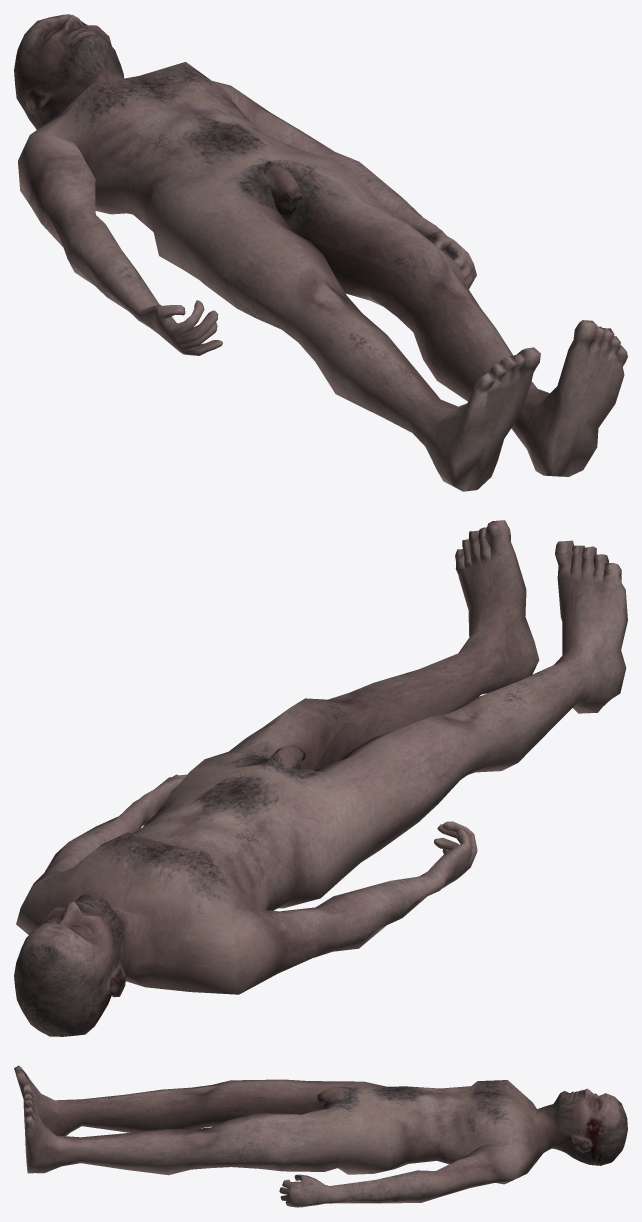
Rendered from antidote_corpse_drilled.dae.
3 views of the same model, one above another, from view 1: azimuth 30°, elevation 25°; view 2: azimuth 150°, elevation 25°; view 3: azimuth 270°, elevation 25° (orthographic). The views are drawn at different scales.
Visible parts, largest first — view 1: polySurface10; view 2: polySurface10; view 3: polySurface10.
Boxes of the visible parts, x1=… form: polySurface10: x1=14, y1=14, x2=627, y2=491; polySurface10: x1=14, y1=520, x2=627, y2=1036; polySurface10: x1=14, y1=1065, x2=627, y2=1207.
Size of the model in its own units: 0.6881 by 0.3245 by 1.93.
